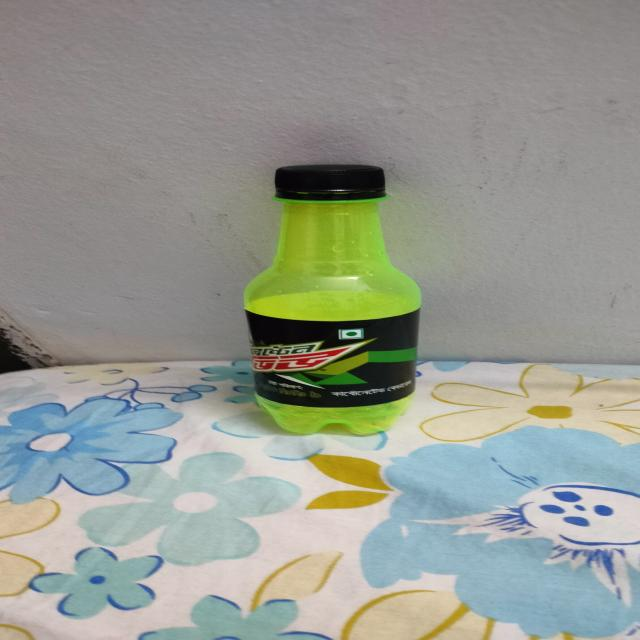Bottle: (242, 162, 420, 435)
